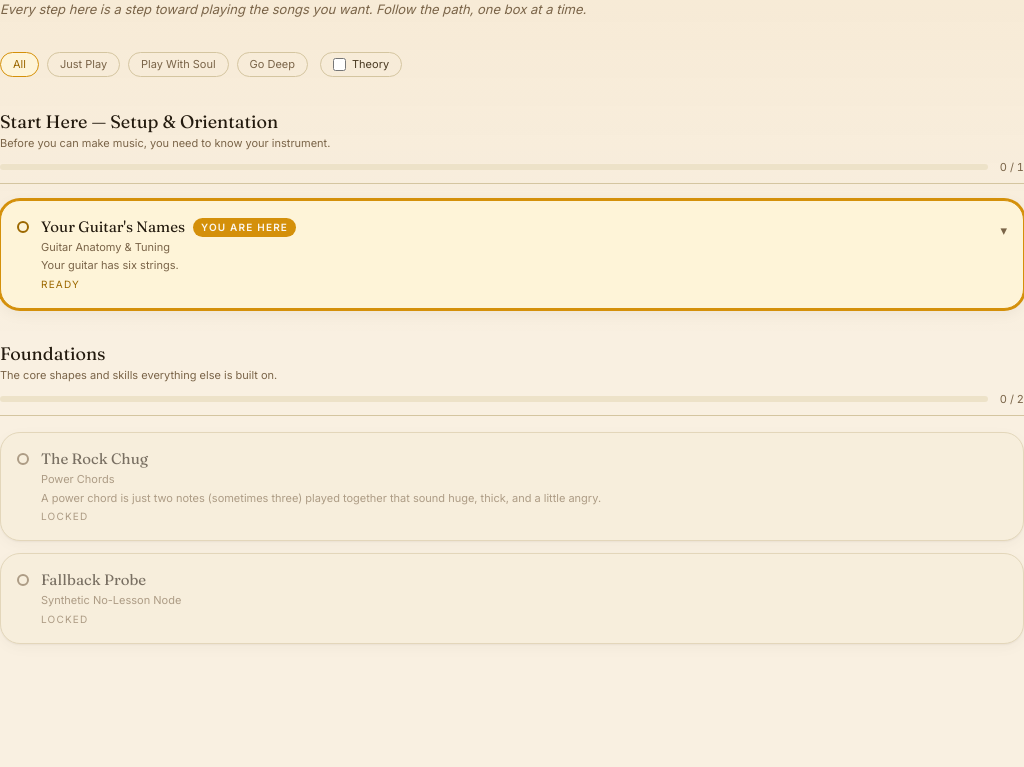
Test: PathView — reward moment › Mark Learned surfaces the UnlockCardModal
The image size is (1024, 767).
Expected: the text "New Skill Unlocked" is not shown
Click the button that starts with "Your Guitar's Names". click: (113,227)
box: [1,201,1023,308]
(page scrolled)
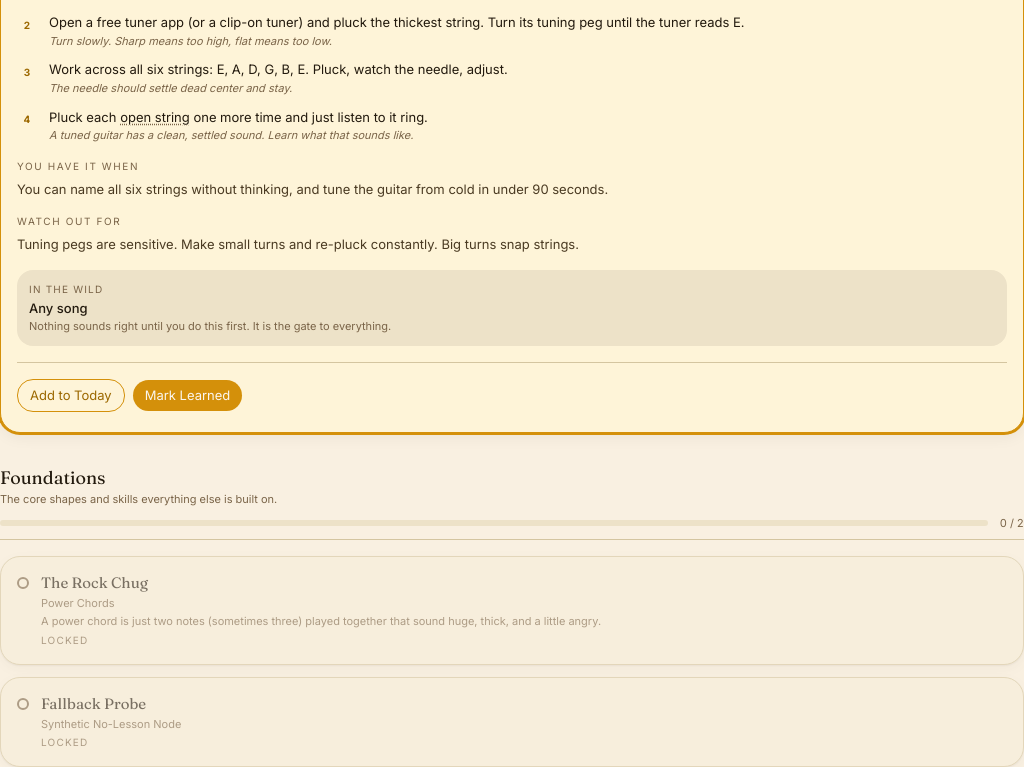
Click the button "Mark Learned". click: (188,395)
box: [133,380,242,411]
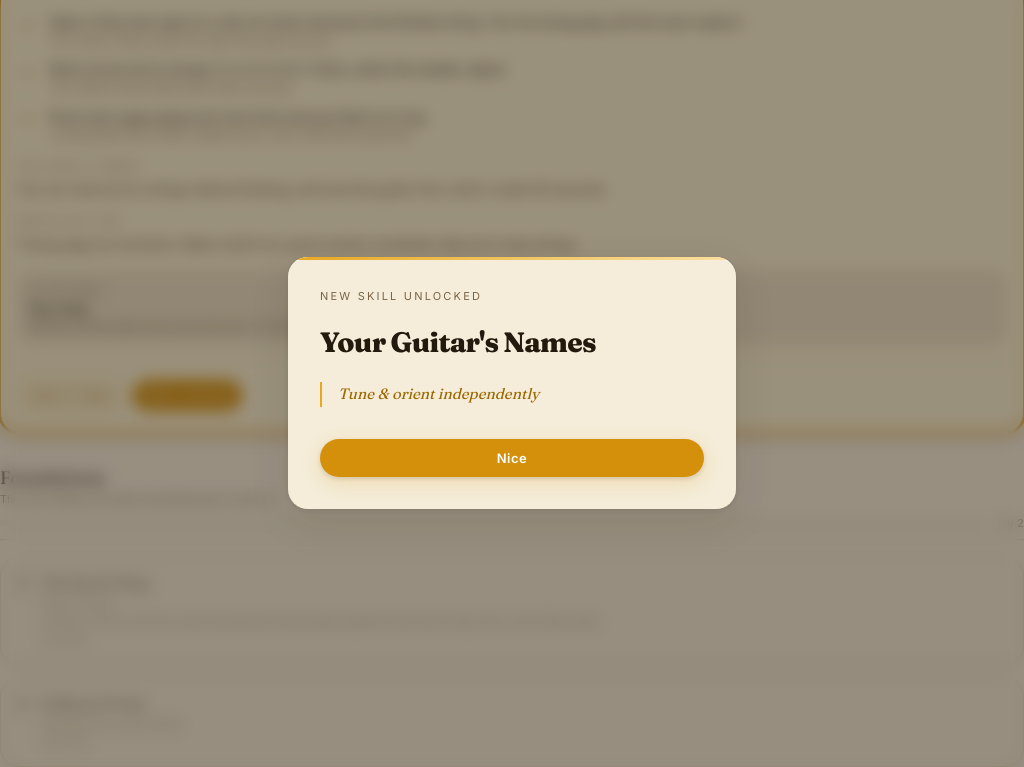
Expected: the heading "Your Guitar's Names" is shown, [320,326,596,360]
Expected: the text "Tune & orient independently" is shown, [320,382,704,407]
